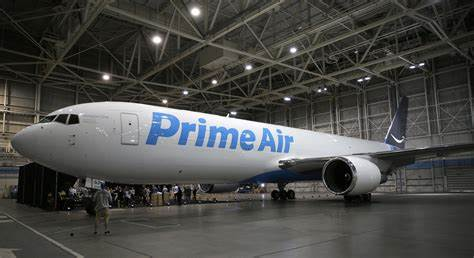Aeronef_commercial: (8, 90, 474, 208)
